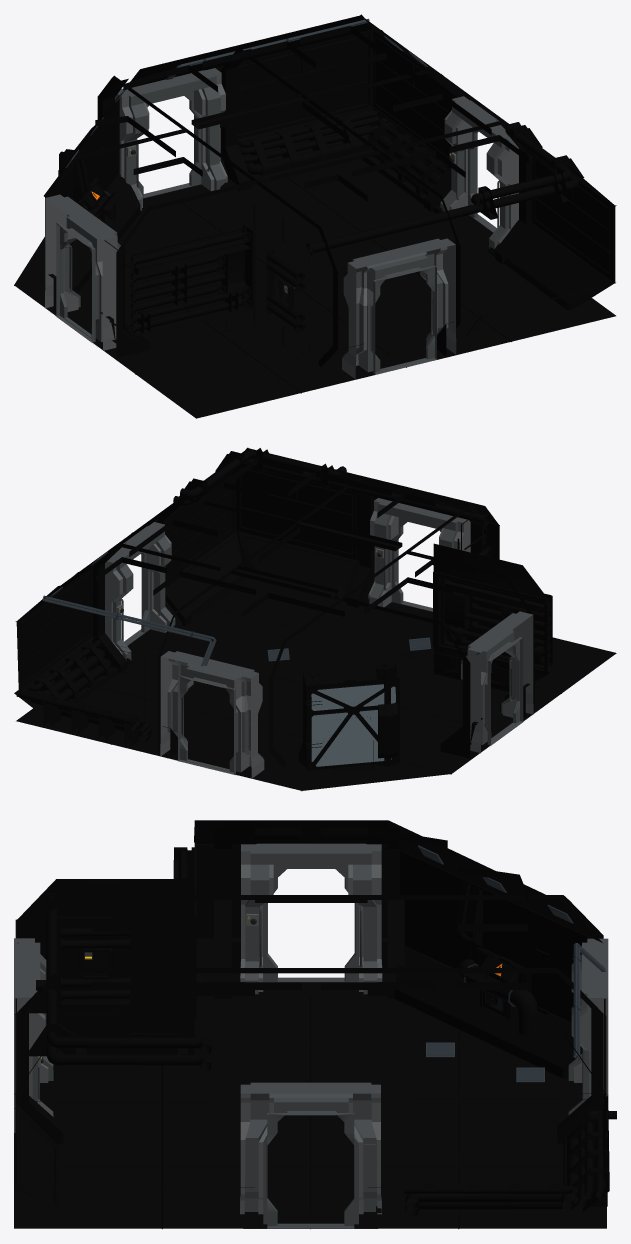
Rendered from ROOMx4_1.fbx.
3 views of the same model, one above another, from view 1: azimuth 30°, elevation 25°; view 2: azimuth 150°, elevation 25°; view 3: azimuth 270°, elevation 25° (orthographic). The views are drawn at different scales.
Visible parts, largest first — view 1: Plane.024, MainRoom, ROOMx4_1, Cube.307, Cylinder.024, Cube.301, Cylinder.014, Cube.304, Cylinder.023, OptionEMPTY.009, Cube.306, Cube.319 (+14 smaller); view 2: MainRoom, Plane.024, ROOMx4_1, OptionAIDKIT.004, Cube.307, Gen.005, Cube.306, Cube.305, Cube.302, Cylinder.024, Cylinder.014, Cylinder.023 (+9 smaller); view 3: Plane.024, MainRoom, ROOMx4_1, OptionEMPTY.009, OptionHIDE.009, Cube.301, Cube.302, Cylinder.024, Cylinder.023, Cube.307, Gen.003, Cylinder.013 (+12 smaller).
Part boxes in pixels (left/top/right/bottom): Plane.024: left=14, top=159, right=615, bottom=418; MainRoom: left=43, top=14, right=616, bottom=376; ROOMx4_1: left=45, top=68, right=518, bottom=379; Cube.307: left=191, top=93, right=532, bottom=263; Cylinder.024: left=305, top=146, right=579, bottom=255; Cube.301: left=220, top=47, right=339, bottom=190; Cylinder.014: left=238, top=110, right=378, bottom=163; Cube.304: left=116, top=180, right=256, bottom=357; Cylinder.023: left=471, top=122, right=571, bottom=207; OptionEMPTY.009: left=71, top=96, right=126, bottom=262; Cube.306: left=321, top=68, right=461, bottom=212; Cube.319: left=134, top=239, right=250, bottom=275; MainRoom: left=14, top=447, right=552, bottom=775; Plane.024: left=16, top=578, right=616, bottom=791; ROOMx4_1: left=105, top=498, right=533, bottom=778; OptionAIDKIT.004: left=298, top=623, right=399, bottom=770; Cube.307: left=157, top=496, right=402, bottom=626; Gen.005: left=305, top=664, right=398, bottom=769; Cube.306: left=92, top=543, right=220, bottom=673; Cube.305: left=342, top=597, right=470, bottom=758; Cube.302: left=265, top=478, right=375, bottom=607; Cylinder.024: left=173, top=458, right=489, bottom=525; Cylinder.014: left=16, top=691, right=152, bottom=735; Cylinder.023: left=180, top=450, right=346, bottom=497; Plane.024: left=14, top=996, right=606, bottom=1229; MainRoom: left=14, top=820, right=609, bottom=1227; ROOMx4_1: left=14, top=843, right=608, bottom=1228; OptionEMPTY.009: left=440, top=848, right=550, bottom=1061; OptionHIDE.009: left=440, top=878, right=550, bottom=1061; Cube.301: left=312, top=968, right=603, bottom=1143; Cube.302: left=17, top=968, right=311, bottom=1143; Cylinder.024: left=44, top=892, right=211, bottom=1071; Cylinder.023: left=36, top=980, right=211, bottom=1054; Cube.307: left=214, top=900, right=404, bottom=965; Gen.003: left=455, top=881, right=548, bottom=1018; Cylinder.013: left=405, top=1193, right=574, bottom=1211.
Bounding box in the file's own units: 10.03 × 3.44 × 10.17.
